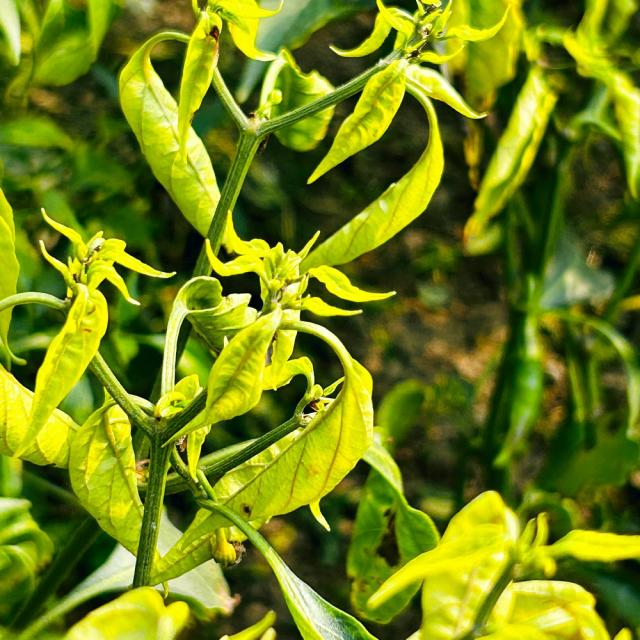Chilli_Leaf_Curl: (2, 1, 636, 638), (264, 1, 508, 270), (166, 316, 374, 566), (1, 206, 176, 465), (364, 488, 638, 639), (116, 22, 240, 247)
